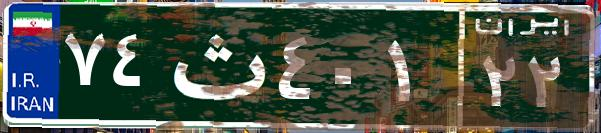0: (330, 28, 385, 110)
1: (385, 28, 445, 110)
2: (475, 38, 525, 113), (525, 38, 570, 115)
4: (273, 28, 330, 110), (110, 28, 158, 105)
7: (57, 26, 110, 107)
ث: (158, 15, 273, 115)
